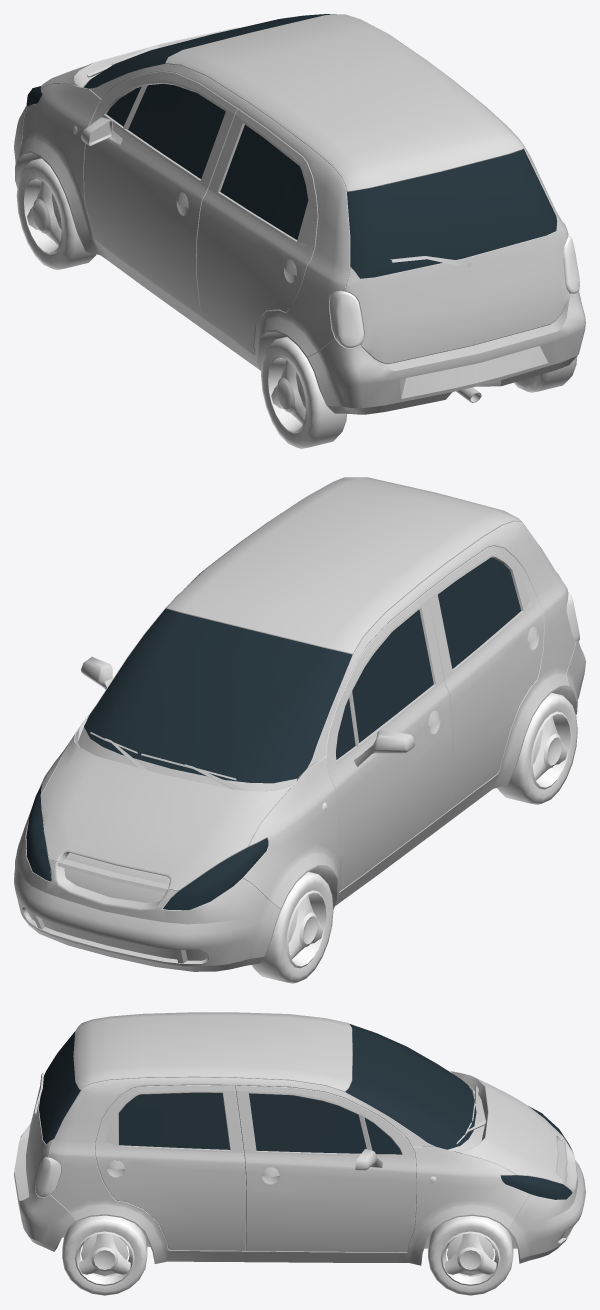
Rendered from compact.glb.
3 renders of one model, top to bottom at view 1: azimuth 30°, elevation 25°; view 2: azimuth 150°, elevation 25°; view 3: azimuth 270°, elevation 25°, orthographic. The views are drawn at different scales.
Visible parts, largest first — view 1: compact; view 2: compact; view 3: compact.
Boxes of the visible parts, box(x1,y1,x2,y2) form: compact: box(14, 14, 585, 448); compact: box(14, 477, 585, 983); compact: box(14, 1012, 585, 1295).
Bounding box in the file's own units: 1.88 × 1.53 × 3.8.
